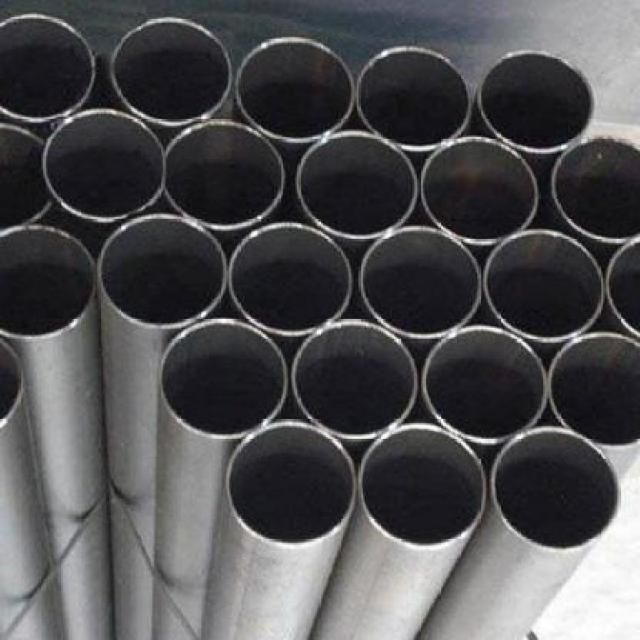pipe: (226, 422, 357, 548), (357, 423, 486, 548), (491, 428, 620, 551), (291, 318, 419, 440), (160, 319, 286, 439), (425, 323, 550, 442), (229, 220, 354, 336), (43, 108, 165, 224), (360, 225, 482, 339), (483, 229, 606, 342), (165, 120, 287, 231), (109, 15, 234, 123), (296, 131, 419, 240), (420, 136, 539, 245), (237, 35, 356, 143), (479, 46, 596, 152), (356, 45, 471, 150), (0, 226, 97, 340), (548, 330, 639, 448), (0, 12, 95, 123), (551, 135, 640, 243)
